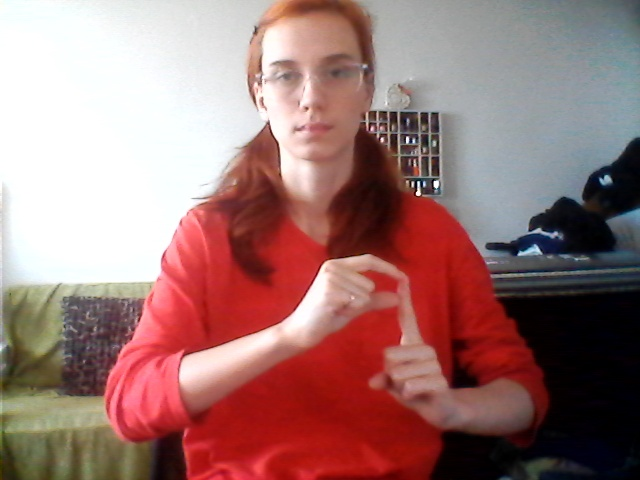p: (279, 246, 456, 434)
